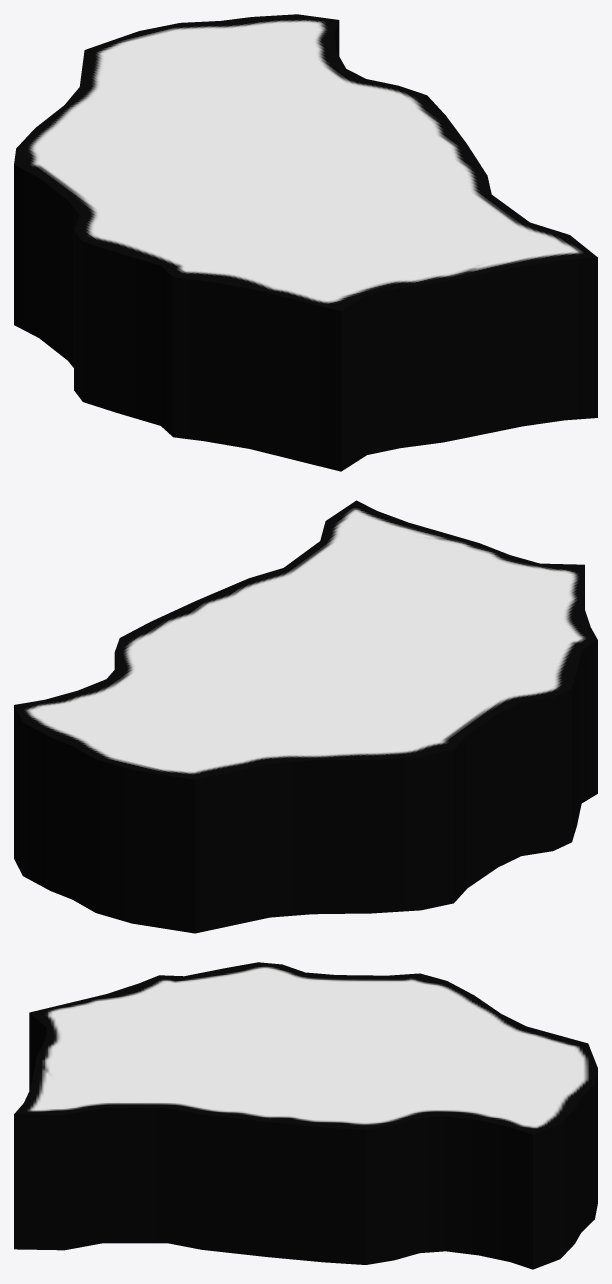
The picture shows the model from 3 angles, top to bottom: view 1: azimuth 30°, elevation 25°; view 2: azimuth 150°, elevation 25°; view 3: azimuth 270°, elevation 25°; orthographic projection. The views are drawn at different scales.
Parts seen in each view (by area): view 1: polySurface50; view 2: polySurface50; view 3: polySurface50.
Part boxes in pixels (x1=…): polySurface50: x1=14, y1=14, x2=597, y2=471; polySurface50: x1=14, y1=500, x2=597, y2=933; polySurface50: x1=14, y1=962, x2=597, y2=1269.
Size of the model in its own units: 1.37 by 0.5 by 1.96.
